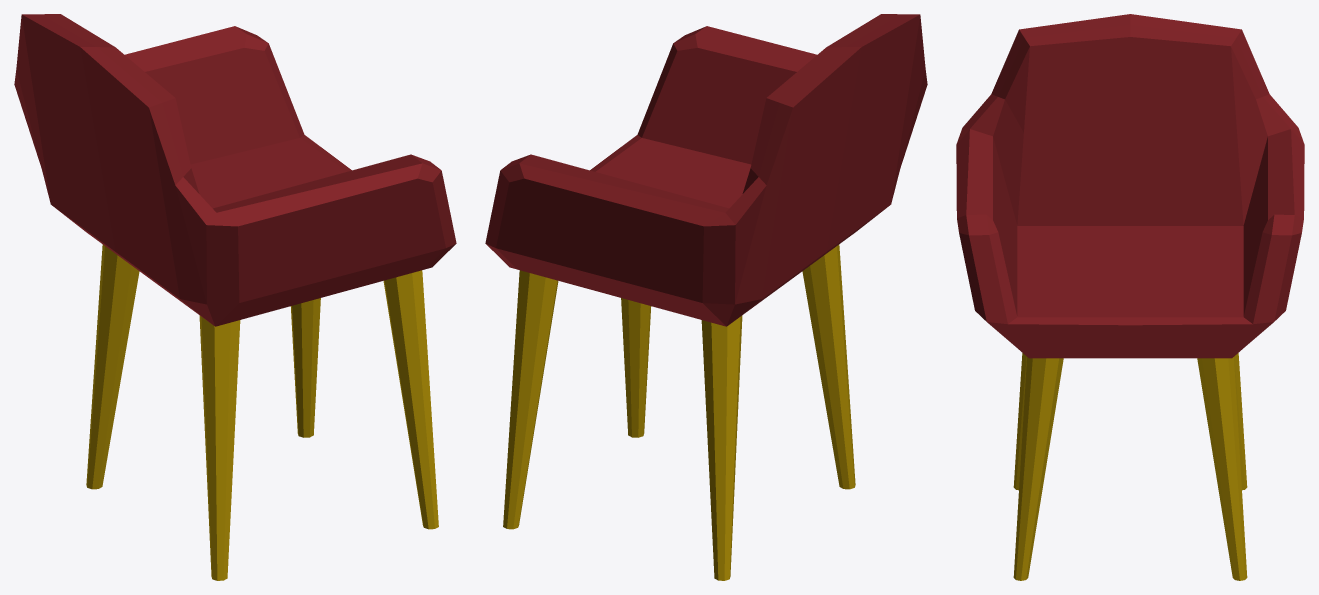
The model's file is Couch_Chair.fbx.
3 views of the same model, side by side, from view 1: azimuth 30°, elevation 25°; view 2: azimuth 150°, elevation 25°; view 3: azimuth 270°, elevation 25° (orthographic). The views are drawn at different scales.
Parts seen in each view (by area): view 1: Couch Chair; view 2: Couch Chair; view 3: Couch Chair.
Part boxes in pixels (<box>): Couch Chair: <box>14,14,456,580</box>; Couch Chair: <box>485,14,927,580</box>; Couch Chair: <box>956,14,1304,580</box>.
Size of the model in its own units: 264 by 430 by 308.
